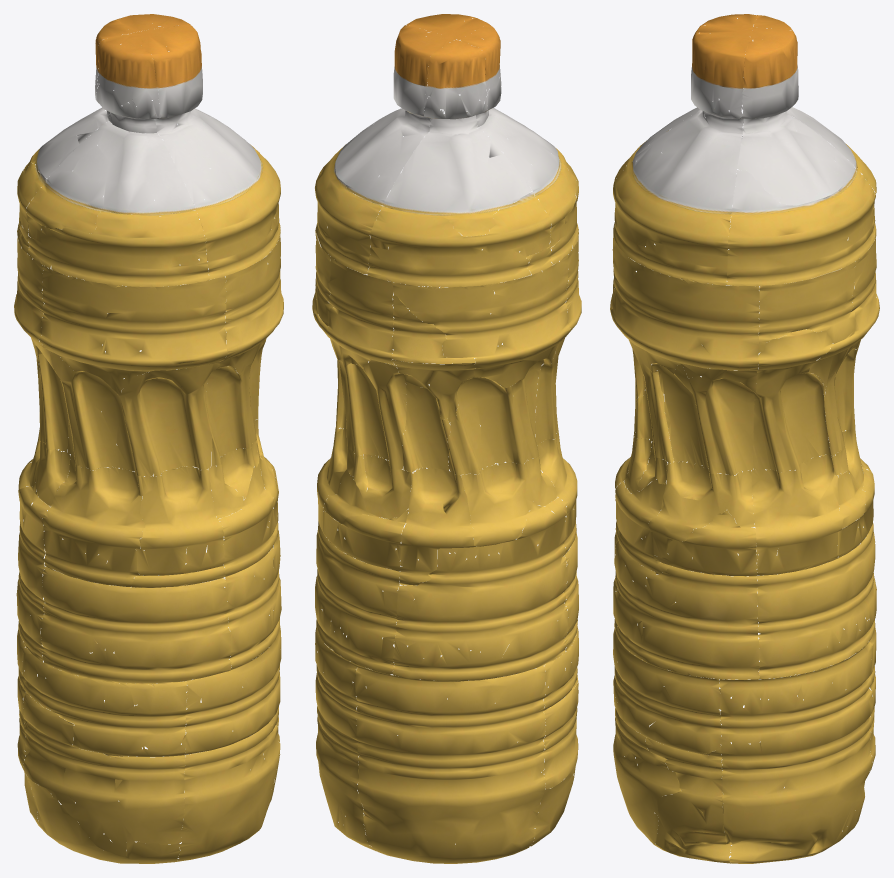
The model's file is oil.glb.
3 views of the same model, side by side, from view 1: azimuth 30°, elevation 25°; view 2: azimuth 150°, elevation 25°; view 3: azimuth 270°, elevation 25° (orthographic).
Visible parts, largest first — view 1: tripo_node_f3943d64-90b6-4590-90ed-d5fcb5620c20; view 2: tripo_node_f3943d64-90b6-4590-90ed-d5fcb5620c20; view 3: tripo_node_f3943d64-90b6-4590-90ed-d5fcb5620c20.
Boxes of the visible parts, x1,y1,x2,y2 form: tripo_node_f3943d64-90b6-4590-90ed-d5fcb5620c20: (14,14,283,863); tripo_node_f3943d64-90b6-4590-90ed-d5fcb5620c20: (312,14,581,863); tripo_node_f3943d64-90b6-4590-90ed-d5fcb5620c20: (610,14,879,863).
Size of the model in its own units: 0.3028 by 0.9793 by 0.3024.
Materials: 1 (1 with a texture image).
